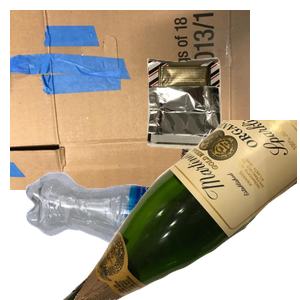cardboard: (10, 10, 250, 190)
glass: (60, 120, 300, 300)
plastic: (23, 169, 243, 300)
trash: (144, 55, 300, 197)
